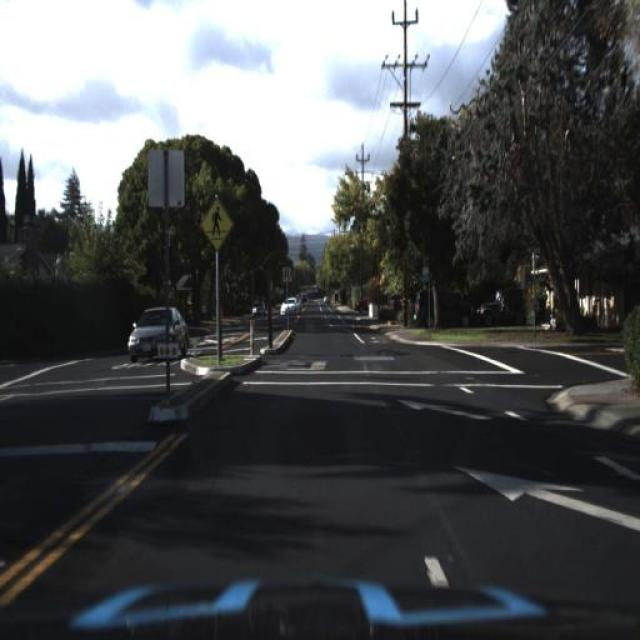car: (127, 302, 188, 366), (412, 284, 470, 332), (476, 282, 532, 322), (277, 296, 307, 320), (352, 293, 382, 317)
